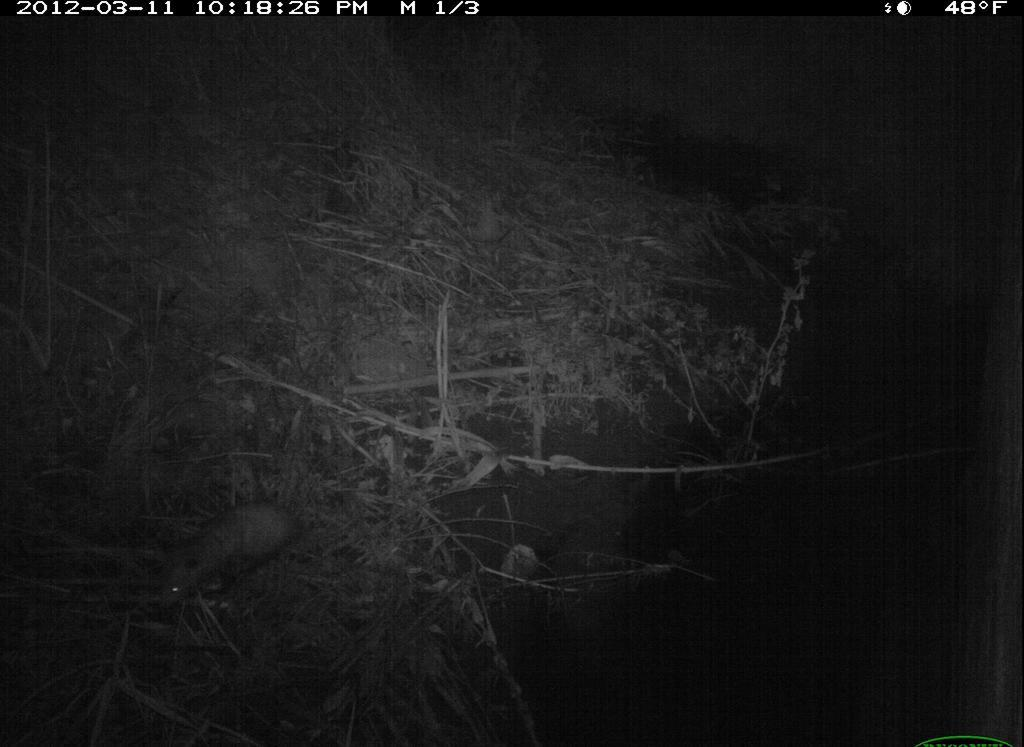opossum: (149, 492, 314, 616)
